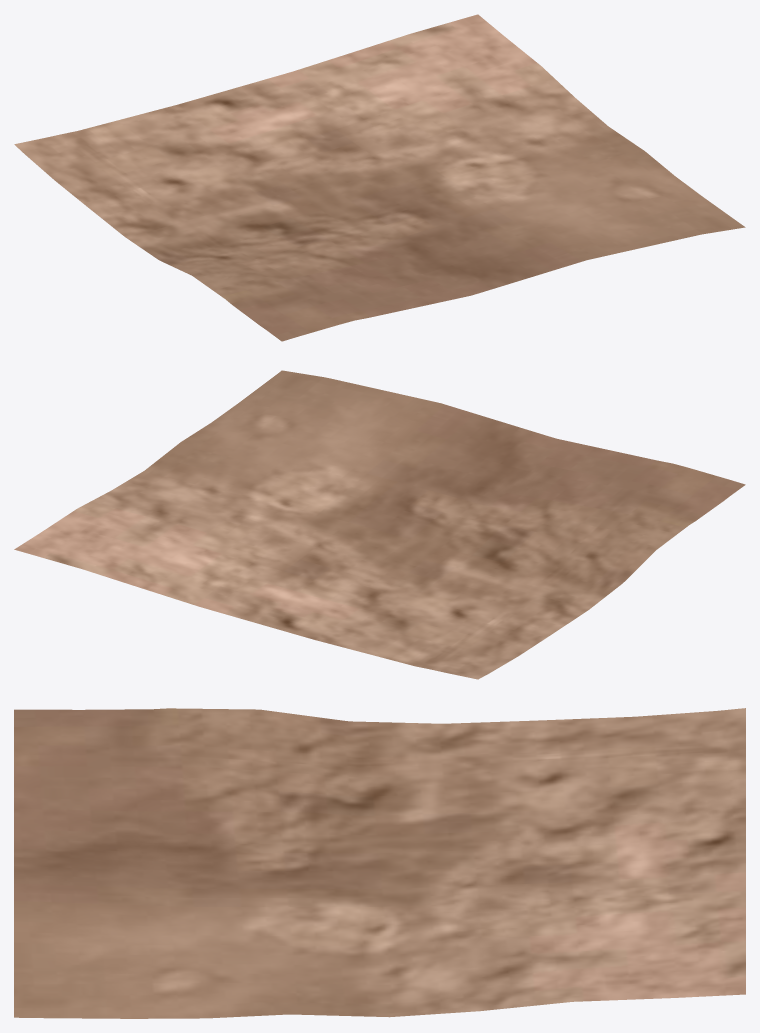
The picture shows the model from 3 angles, top to bottom: view 1: azimuth 30°, elevation 25°; view 2: azimuth 150°, elevation 25°; view 3: azimuth 270°, elevation 25°; orthographic projection. The views are drawn at different scales.
Bounding box in the file's own units: 64 × 3.73 × 64.
Materials: 1 (1 with a texture image).
